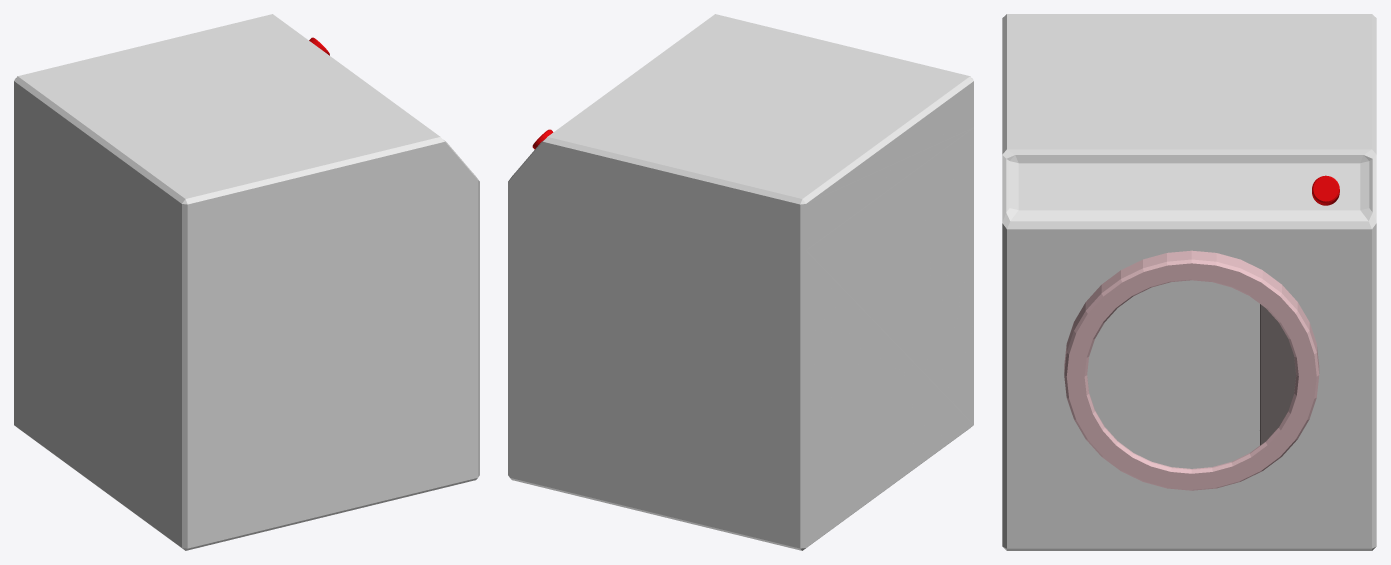
Rendered from Washing Machine.fbx.
The picture shows the model from 3 angles, left to right: view 1: azimuth 30°, elevation 25°; view 2: azimuth 150°, elevation 25°; view 3: azimuth 270°, elevation 25°; orthographic projection. The views are drawn at different scales.
Parts seen in each view (by area): view 1: Machine; view 2: Machine; view 3: Machine, Cylinder, Outer lid, Inner lid, Cylinder.001.
Part boxes in pixels (x1,y1,x2,y2): Machine: (14,14,479,550); Machine: (508,14,973,550); Machine: (1002,14,1376,550); Cylinder: (1087,280,1259,468); Outer lid: (1064,250,1319,490); Inner lid: (1260,304,1296,445); Cylinder.001: (1312,175,1339,205).
Size of the model in its own units: 251 by 265 by 235.
